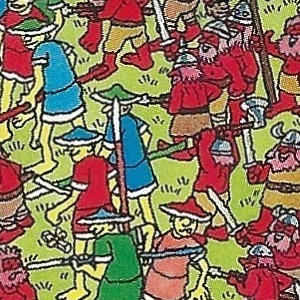Charlie: (130, 55, 170, 245)
Wenda: (45, 58, 77, 244)
Wizard Whitebeard: (0, 43, 34, 243)
